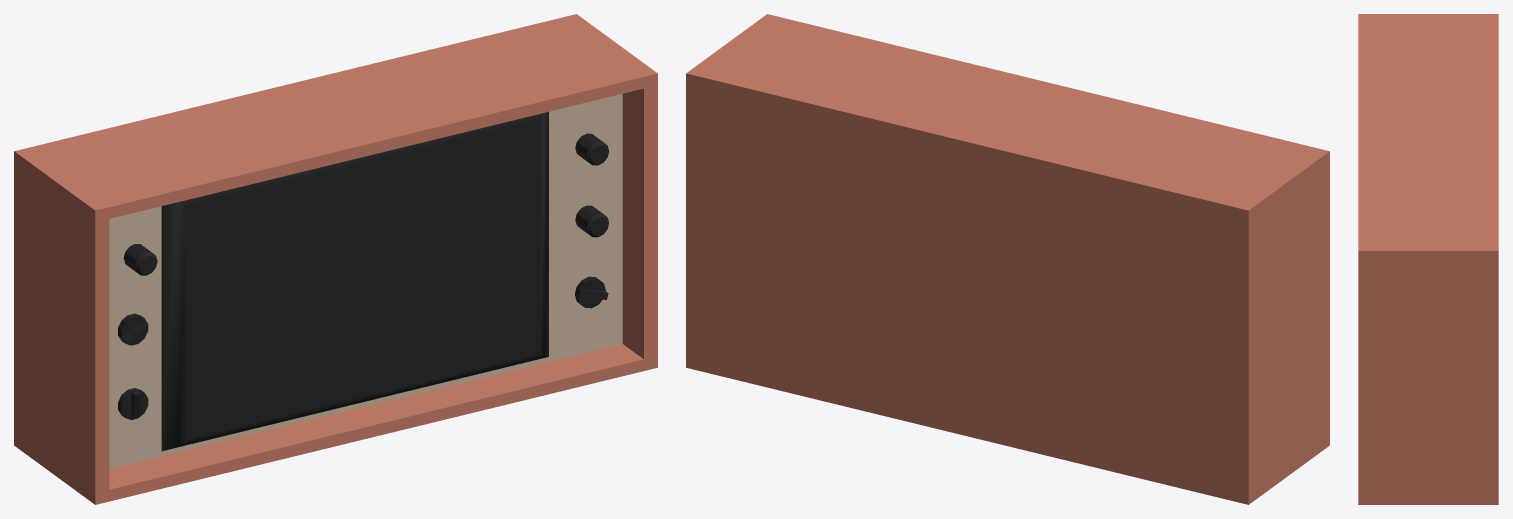
The model's file is Block5B.fbx.
3 renders of one model, left to right at view 1: azimuth 30°, elevation 25°; view 2: azimuth 150°, elevation 25°; view 3: azimuth 270°, elevation 25°, orthographic. The views are drawn at different scales.
Parts seen in each view (by area): view 1: Block5B; view 2: Block5B; view 3: Block5B.
Part boxes in pixels (box(x1,y1,x2,y2)): Block5B: box(14, 14, 657, 504); Block5B: box(686, 14, 1329, 504); Block5B: box(1358, 14, 1498, 504).
Size of the model in its own units: 2 by 1 by 0.5.
